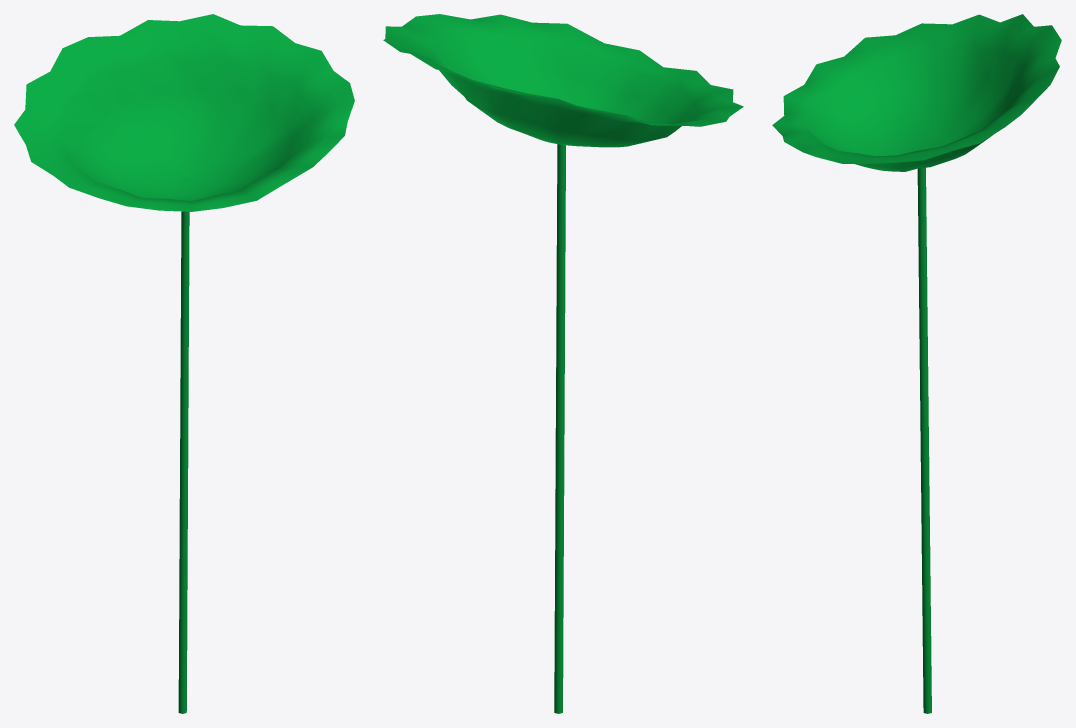
Rendered from LousLeaf_05.fbx.
The picture shows the model from 3 angles, left to right: view 1: azimuth 30°, elevation 25°; view 2: azimuth 150°, elevation 25°; view 3: azimuth 270°, elevation 25°; orthographic projection. The views are drawn at different scales.
Visible parts, largest first — view 1: LousLeaf_5; view 2: LousLeaf_5; view 3: LousLeaf_5.
Boxes of the visible parts, left/top/right/bottom form: LousLeaf_5: left=14, top=14, right=354, bottom=713; LousLeaf_5: left=383, top=14, right=743, bottom=713; LousLeaf_5: left=772, top=14, right=1061, bottom=713.
Size of the model in its own units: 3.77 by 7.53 by 2.99.
